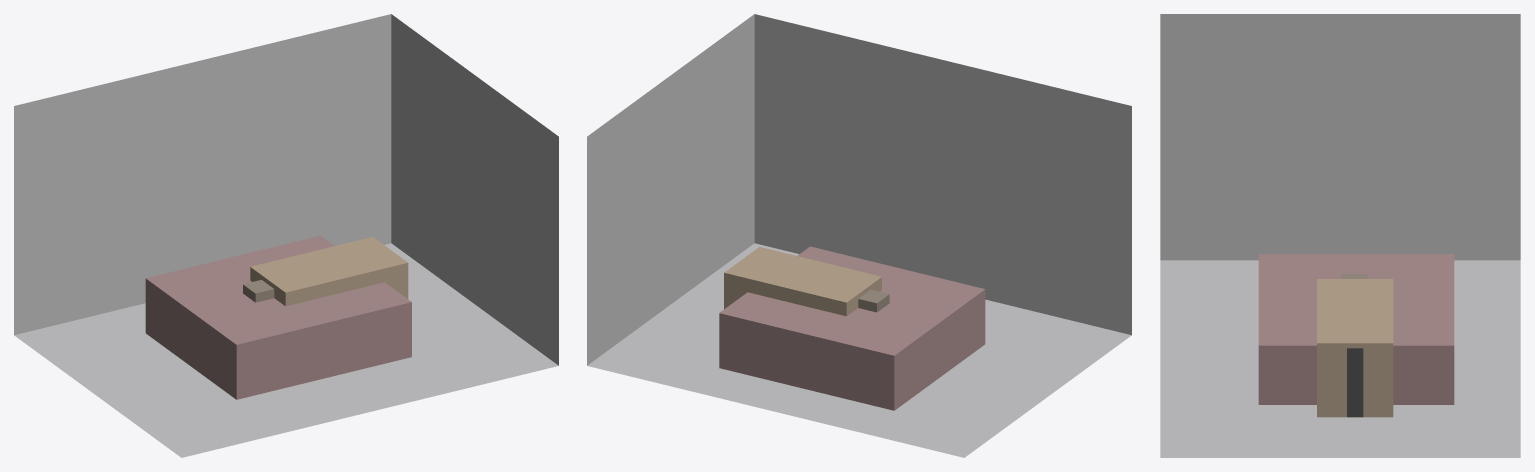
Rendered from current_layout.glb.
3 views of the same model, side by side, from view 1: azimuth 30°, elevation 25°; view 2: azimuth 150°, elevation 25°; view 3: azimuth 270°, elevation 25° (orthographic). The views are drawn at different scales.
Parts seen in each view (by area): view 1: room, bed, desk, suitcase; view 2: room, bed, desk, suitcase; view 3: room, bed, desk, tv.
Part boxes in pixels (x1,y1,x2,y2): room: (14, 14, 558, 457); bed: (145, 235, 411, 399); desk: (250, 237, 408, 306); suitcase: (243, 280, 274, 302); room: (587, 14, 1131, 457); bed: (719, 246, 985, 410); desk: (724, 247, 881, 316); suitcase: (858, 289, 889, 312); room: (1160, 14, 1520, 457); bed: (1258, 254, 1454, 404); desk: (1317, 279, 1393, 417); tv: (1347, 348, 1363, 417).
Size of the model in its own units: 4.31 by 2.5 by 3.31.
